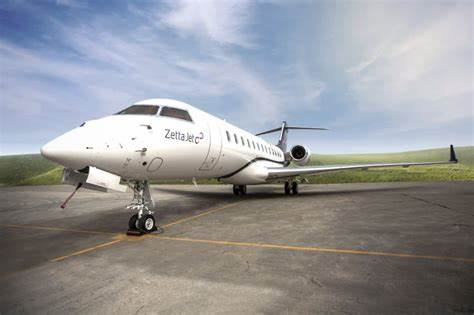Aeronef_commercial: (33, 88, 467, 237)
